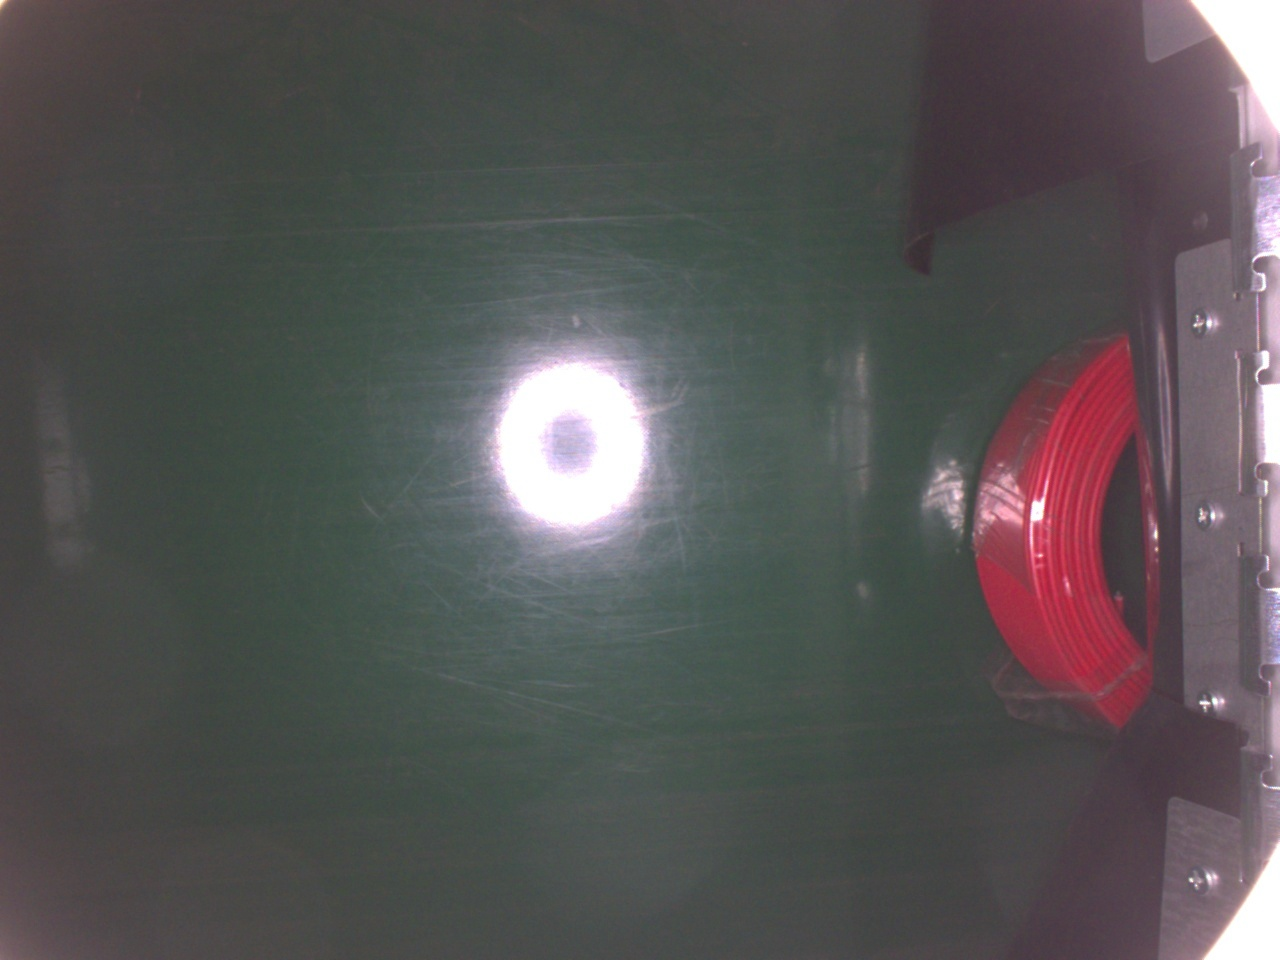red: (971, 321, 1165, 728)
